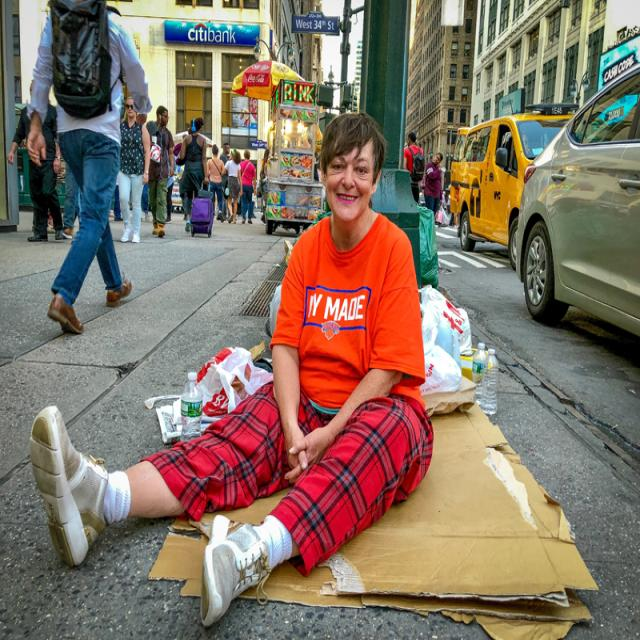sem_oculos: (300, 136, 397, 179)
